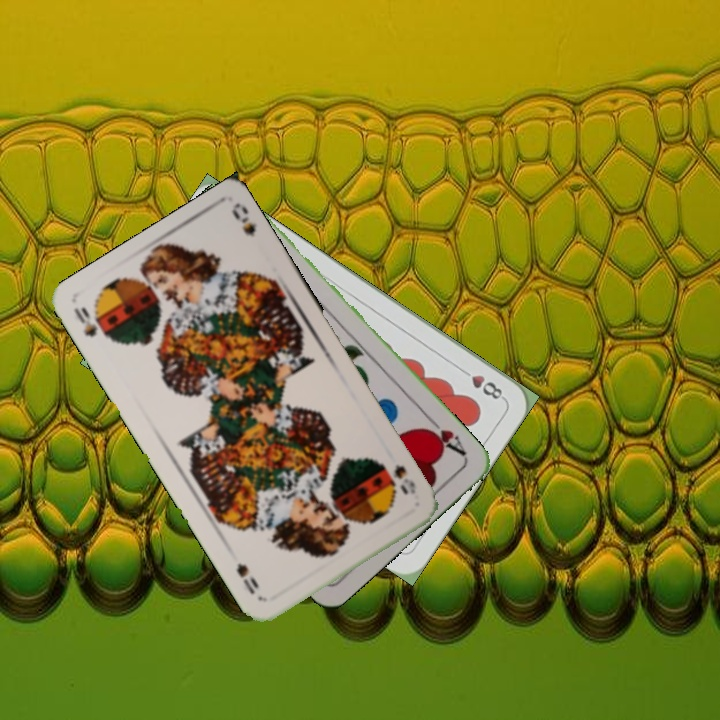H8: (455, 364, 507, 402)
HA: (419, 412, 470, 459)
SO: (378, 459, 419, 498), (69, 302, 110, 340)
